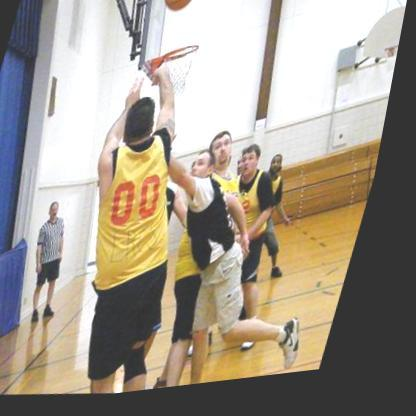basketball: (156, 0, 199, 16)
rim: (165, 46, 202, 68)
